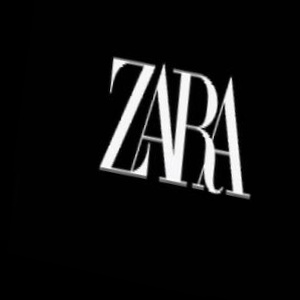zara: (227, 28, 300, 133)
